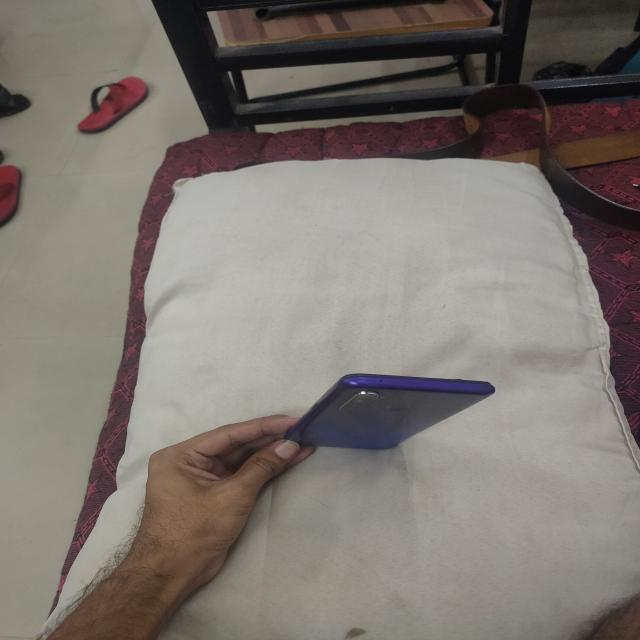Phone: (281, 374, 496, 450)
